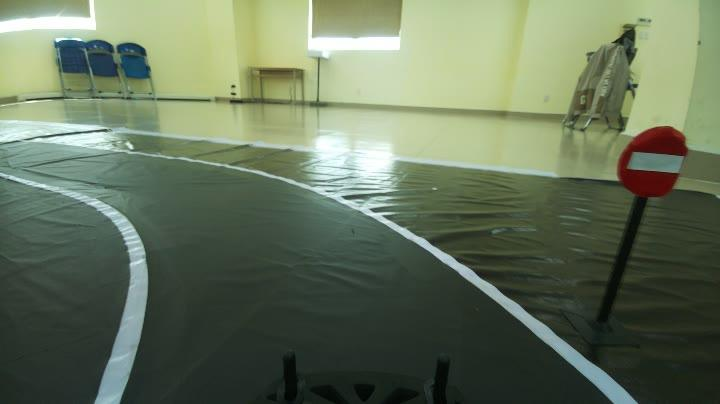no_entry: (612, 114, 688, 202)
